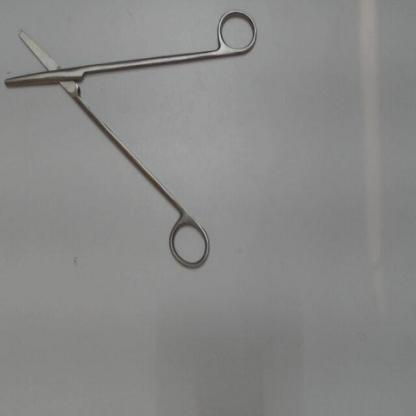9 Metzenbaum Scissors: (3, 5, 265, 278)
